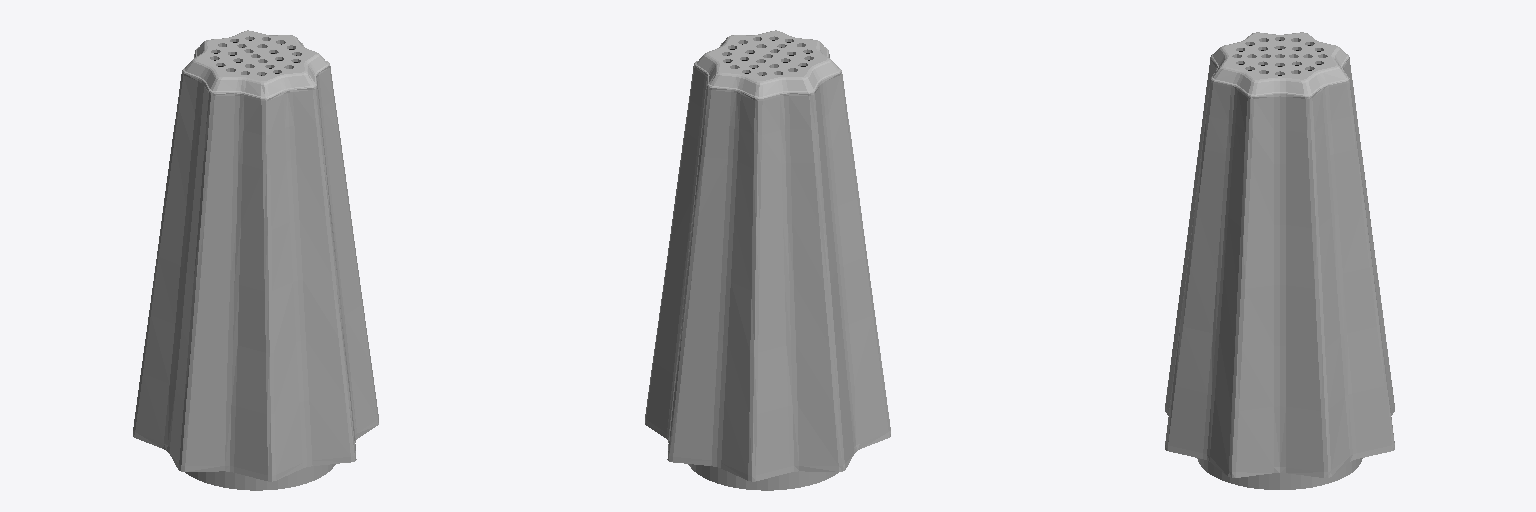
The model's file is saltShaker.obj.
3 views of the same model, side by side, from view 1: azimuth 30°, elevation 25°; view 2: azimuth 150°, elevation 25°; view 3: azimuth 270°, elevation 25° (orthographic).
Parts seen in each view (by area): view 1: Cylinder; view 2: Cylinder; view 3: Cylinder.
Part boxes in pixels (bbox=[...]): Cylinder: bbox=[133, 30, 378, 490]; Cylinder: bbox=[645, 30, 890, 490]; Cylinder: bbox=[1165, 32, 1394, 489].
Bounding box in the file's own units: 4.14 × 7.92 × 4.14.